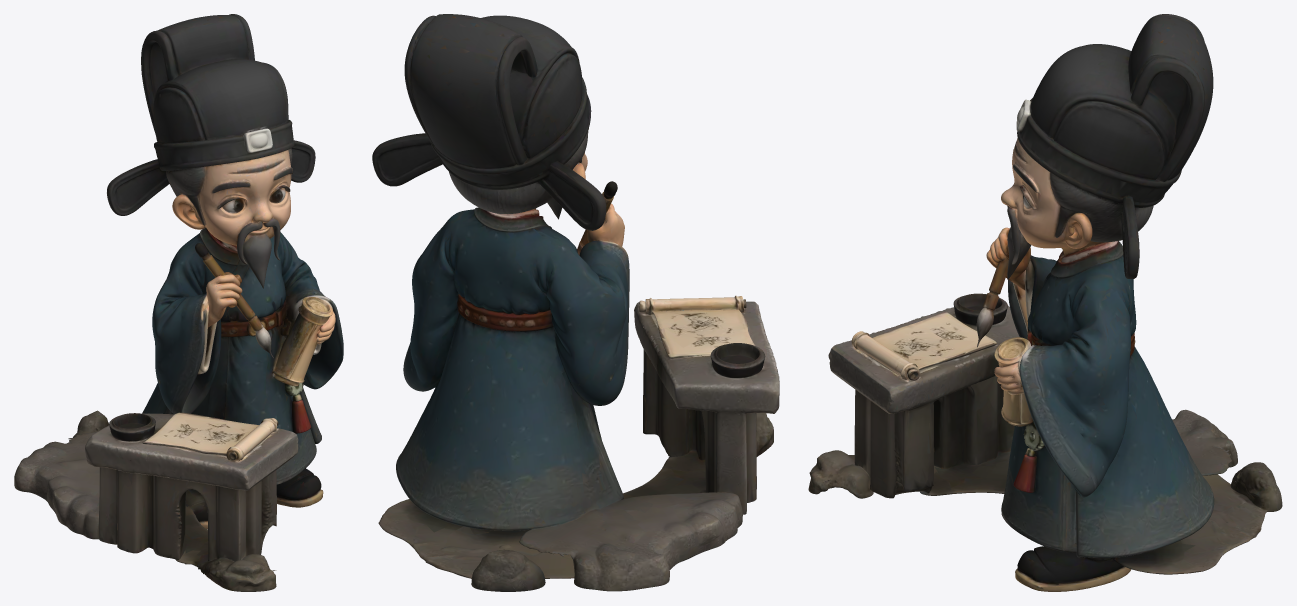
Rendered from poem.glb.
3 renders of one model, left to right at view 1: azimuth 30°, elevation 25°; view 2: azimuth 150°, elevation 25°; view 3: azimuth 270°, elevation 25°, orthographic. The views are drawn at different scales.
Parts seen in each view (by area): view 1: node_0; view 2: node_0; view 3: node_0.
Boxes of the visible parts, left/top/right/bottom form: node_0: left=14, top=14, right=343, bottom=591; node_0: left=372, top=14, right=779, bottom=591; node_0: left=808, top=14, right=1282, bottom=591.
Bounding box in the file's own units: 0.6413 × 0.9668 × 0.7857.
1 material, 1 textured.
